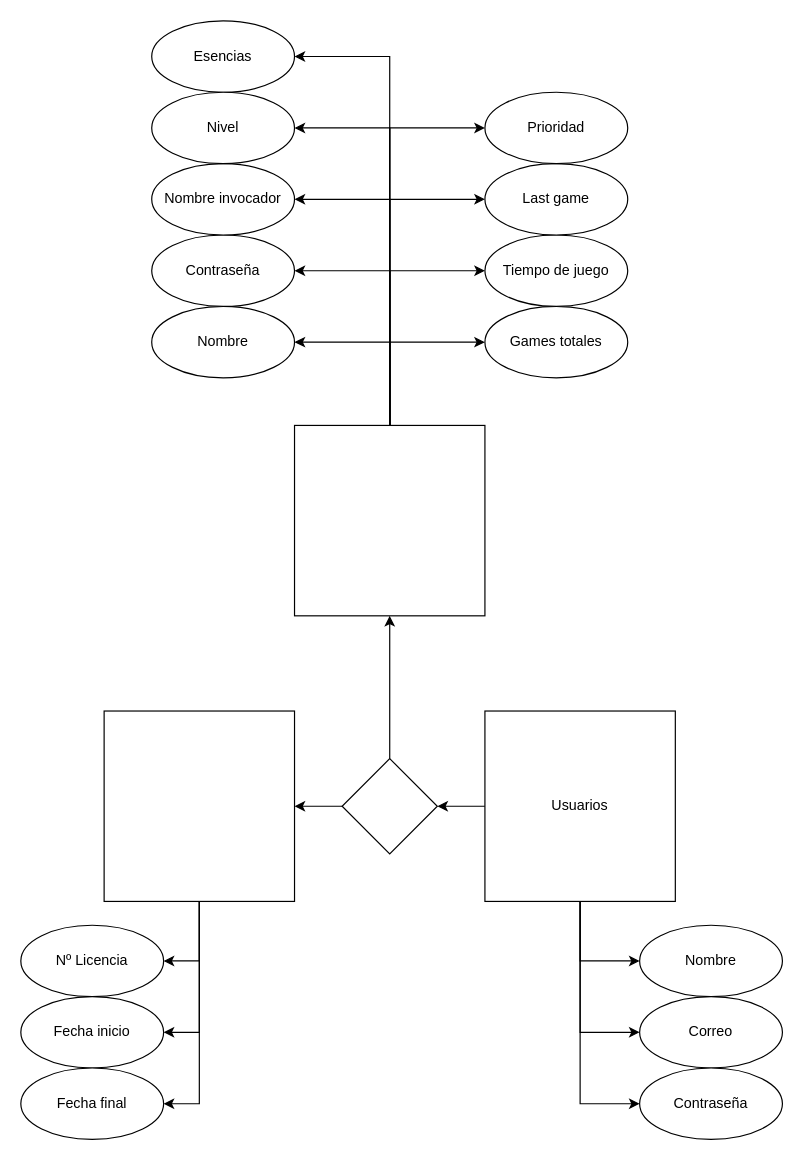
Some shapes in this 803 by 1160 pixel diagram are drawn without their labels. The centre of each missing label's shape, as x and y in pixels:
"Bots" belongs at pixel 389 520.
"Licencias" belongs at pixel 199 805.
"Tienen" belongs at pixel 389 805.
